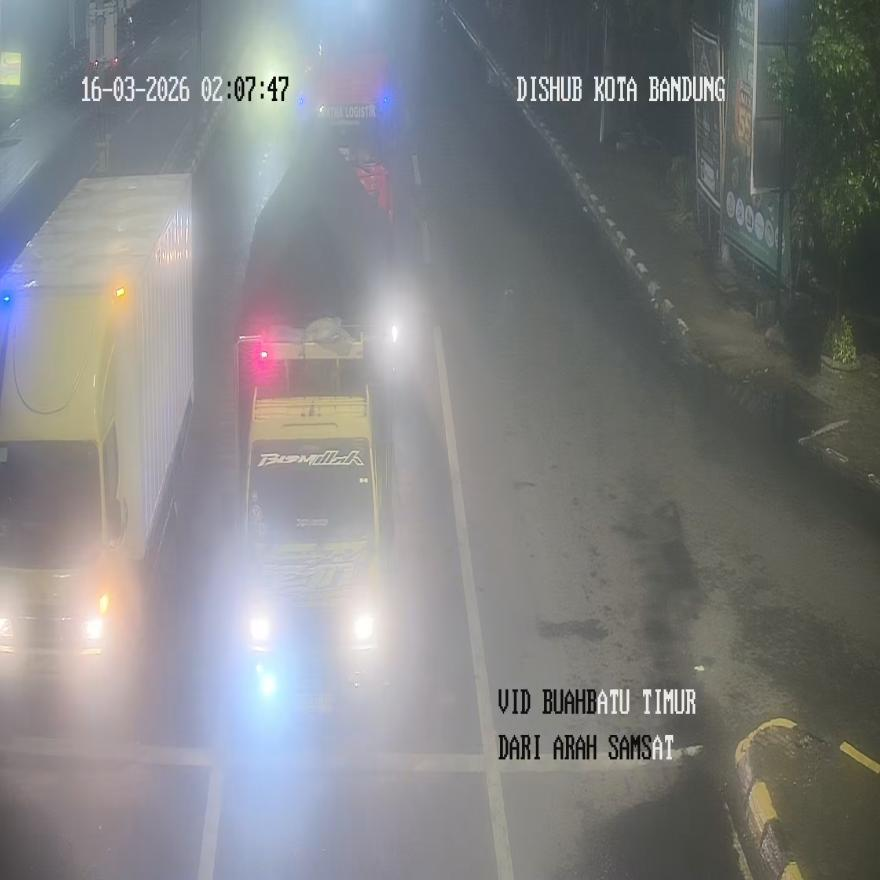Truk berat: (0, 175, 195, 688)
Truk ringan: (236, 294, 403, 709)
